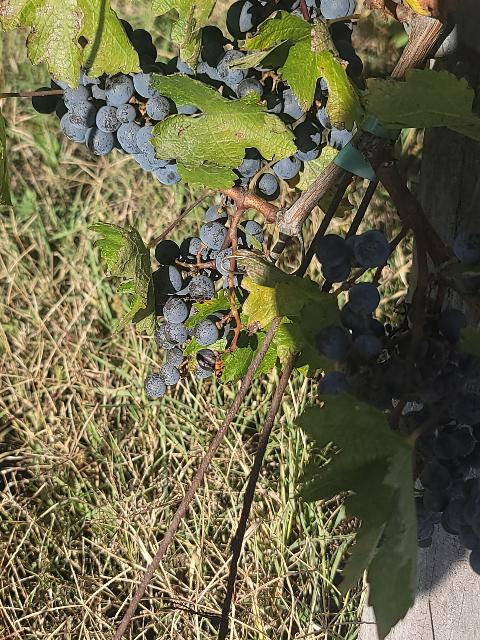grapes: (32, 20, 351, 185), (144, 206, 264, 399), (399, 309, 480, 572), (315, 282, 390, 409), (315, 230, 390, 285)
